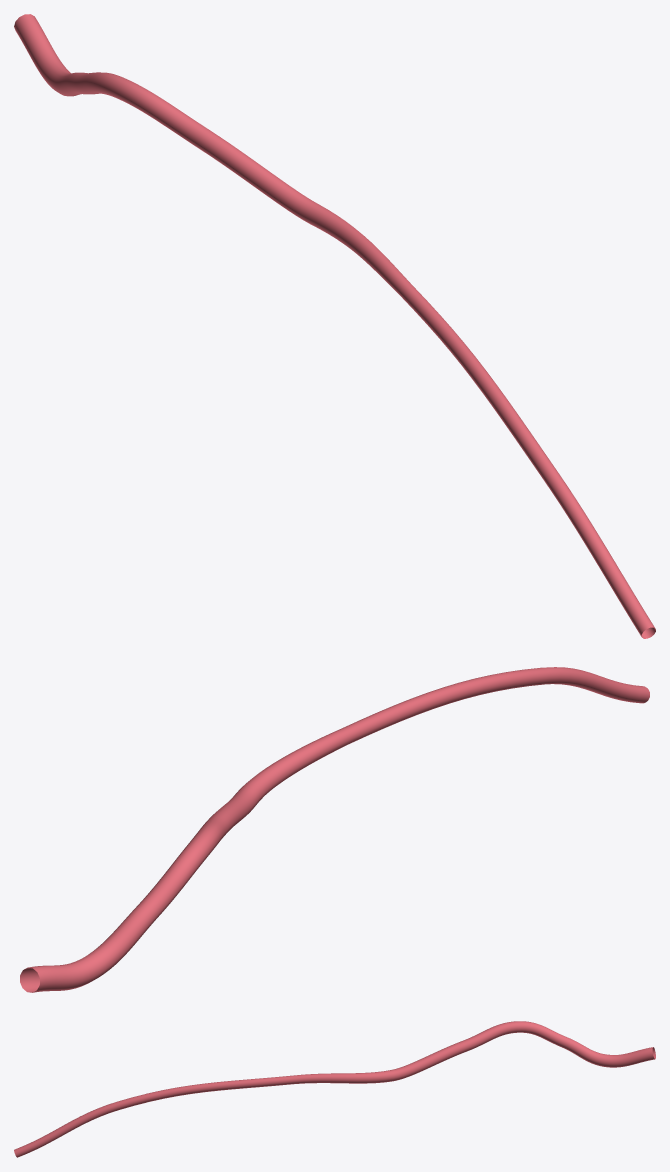
The picture shows the model from 3 angles, top to bottom: view 1: azimuth 30°, elevation 25°; view 2: azimuth 150°, elevation 25°; view 3: azimuth 270°, elevation 25°; orthographic projection. The views are drawn at different scales.
Visible parts, largest first — view 1: ZA_a41b3ea81f45994c; view 2: ZA_a41b3ea81f45994c; view 3: ZA_a41b3ea81f45994c.
Part boxes in pixels (x1,y1,x2,y2): ZA_a41b3ea81f45994c: (14, 14, 655, 638); ZA_a41b3ea81f45994c: (20, 667, 649, 992); ZA_a41b3ea81f45994c: (14, 1021, 655, 1157).
Size of the model in its own units: 0.00945 by 0.0209 by 0.0998.
